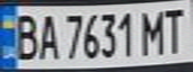1: (115, 8, 139, 57)
3: (96, 9, 121, 60)
6: (78, 10, 103, 60)
7: (60, 10, 84, 60)
A: (33, 10, 60, 61)
B: (9, 10, 42, 61)
M: (139, 6, 169, 56)
T: (160, 3, 190, 55)
